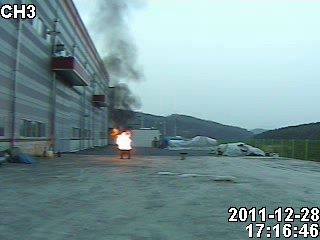fire: (112, 127, 133, 152)
smoke: (95, 2, 144, 117)
